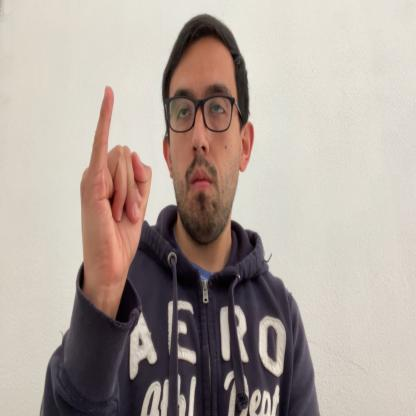I: (79, 85, 151, 292)
